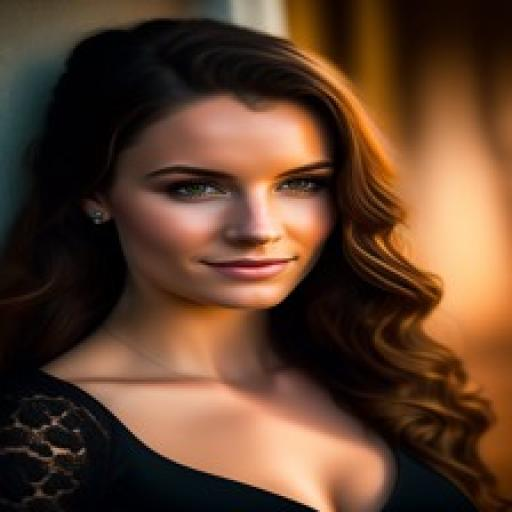human: (0, 13, 492, 512)
